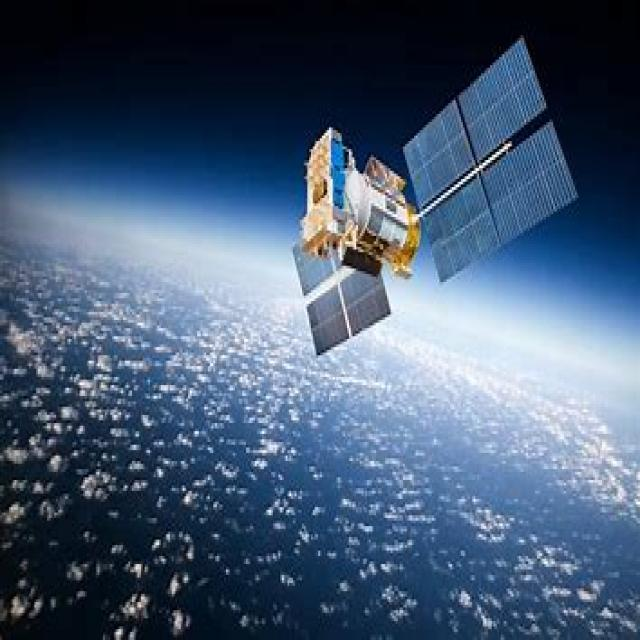medium_debris: (272, 19, 586, 358)
